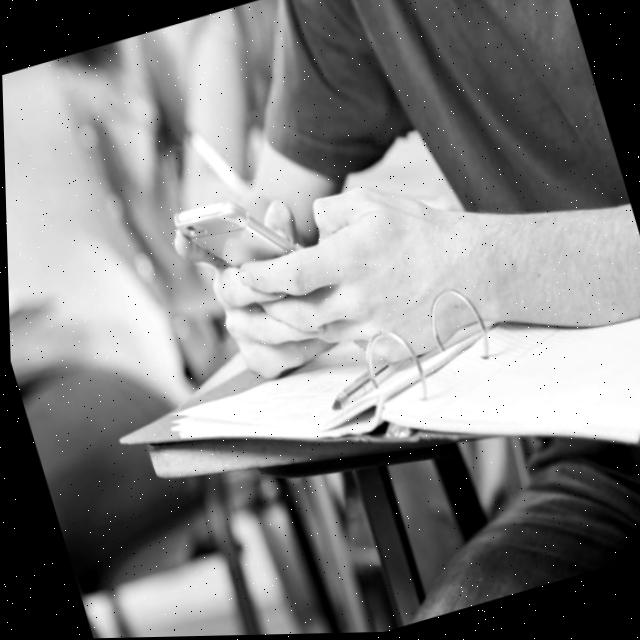phone: (162, 165, 351, 361)
